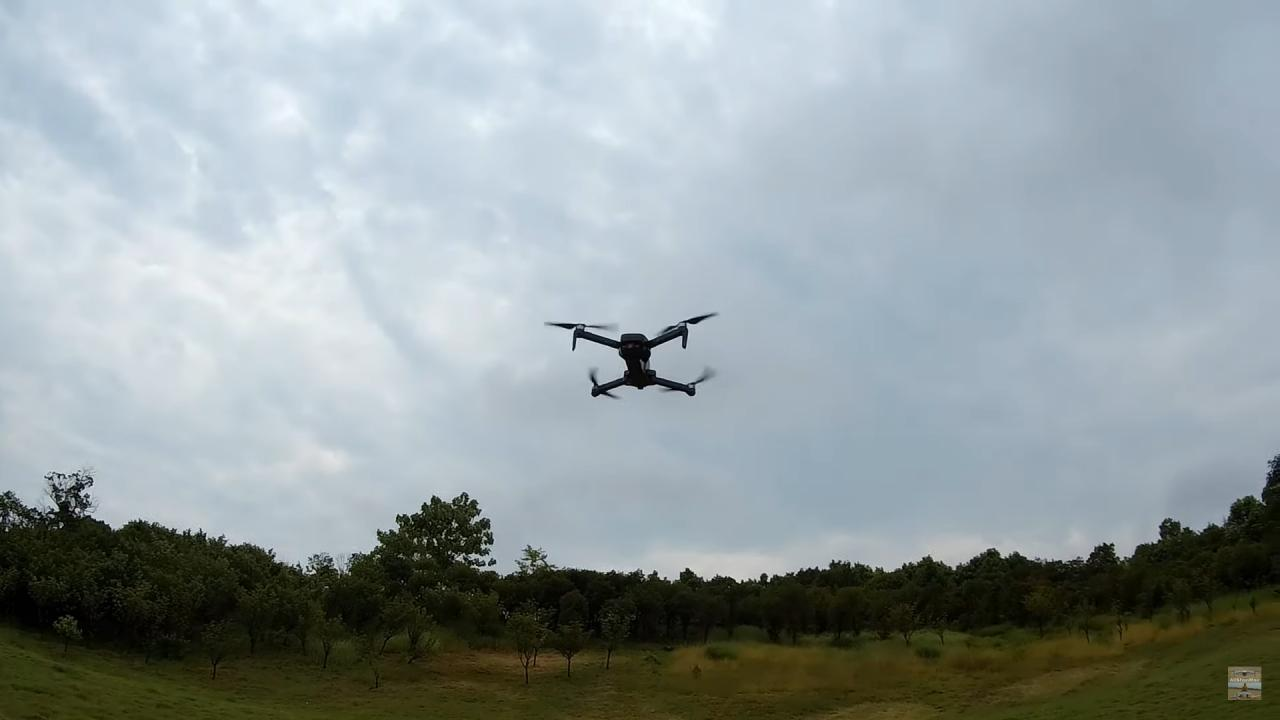Drone: (529, 292, 741, 418)
